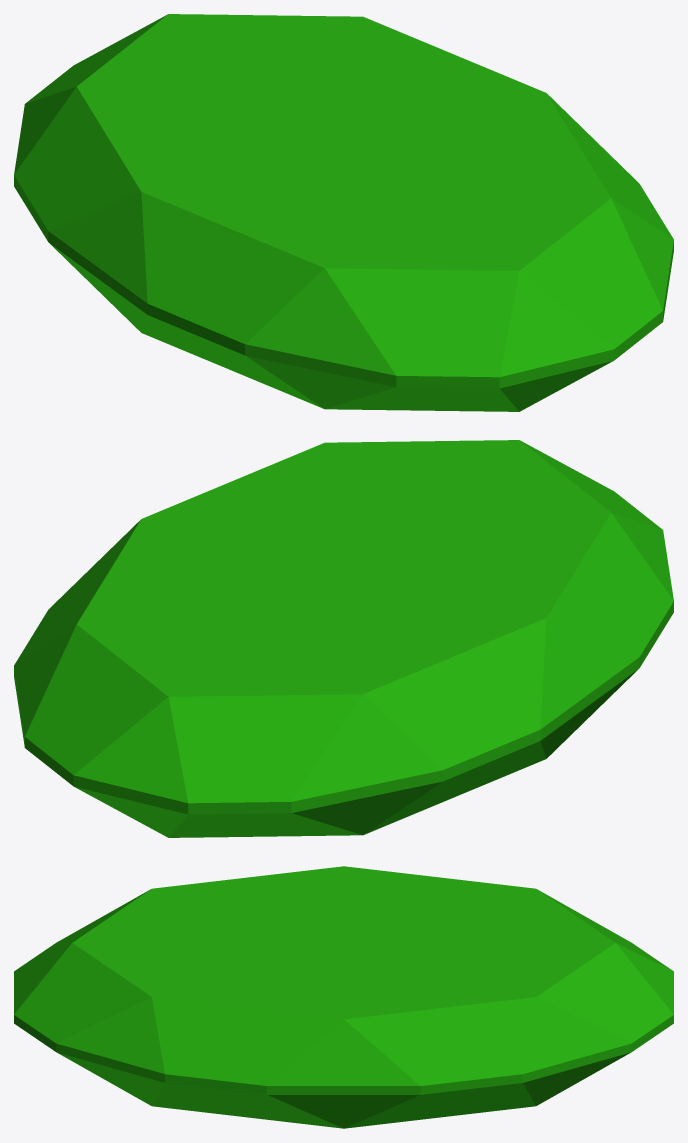
The model's file is emerald.glb.
3 renders of one model, top to bottom at view 1: azimuth 30°, elevation 25°; view 2: azimuth 150°, elevation 25°; view 3: azimuth 270°, elevation 25°, orthographic. The views are drawn at different scales.
Visible parts, largest first — view 1: Emerald; view 2: Emerald; view 3: Emerald.
Boxes of the visible parts, left/top/right/bottom form: Emerald: left=14, top=14, right=673, bottom=411; Emerald: left=14, top=440, right=673, bottom=837; Emerald: left=14, top=866, right=673, bottom=1128.
Size of the model in its own units: 1.82 by 0.5 by 2.74.
